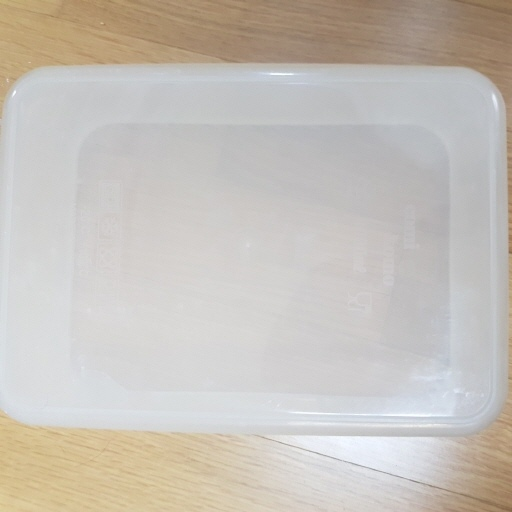Plastic_4: (1, 63, 509, 434)
